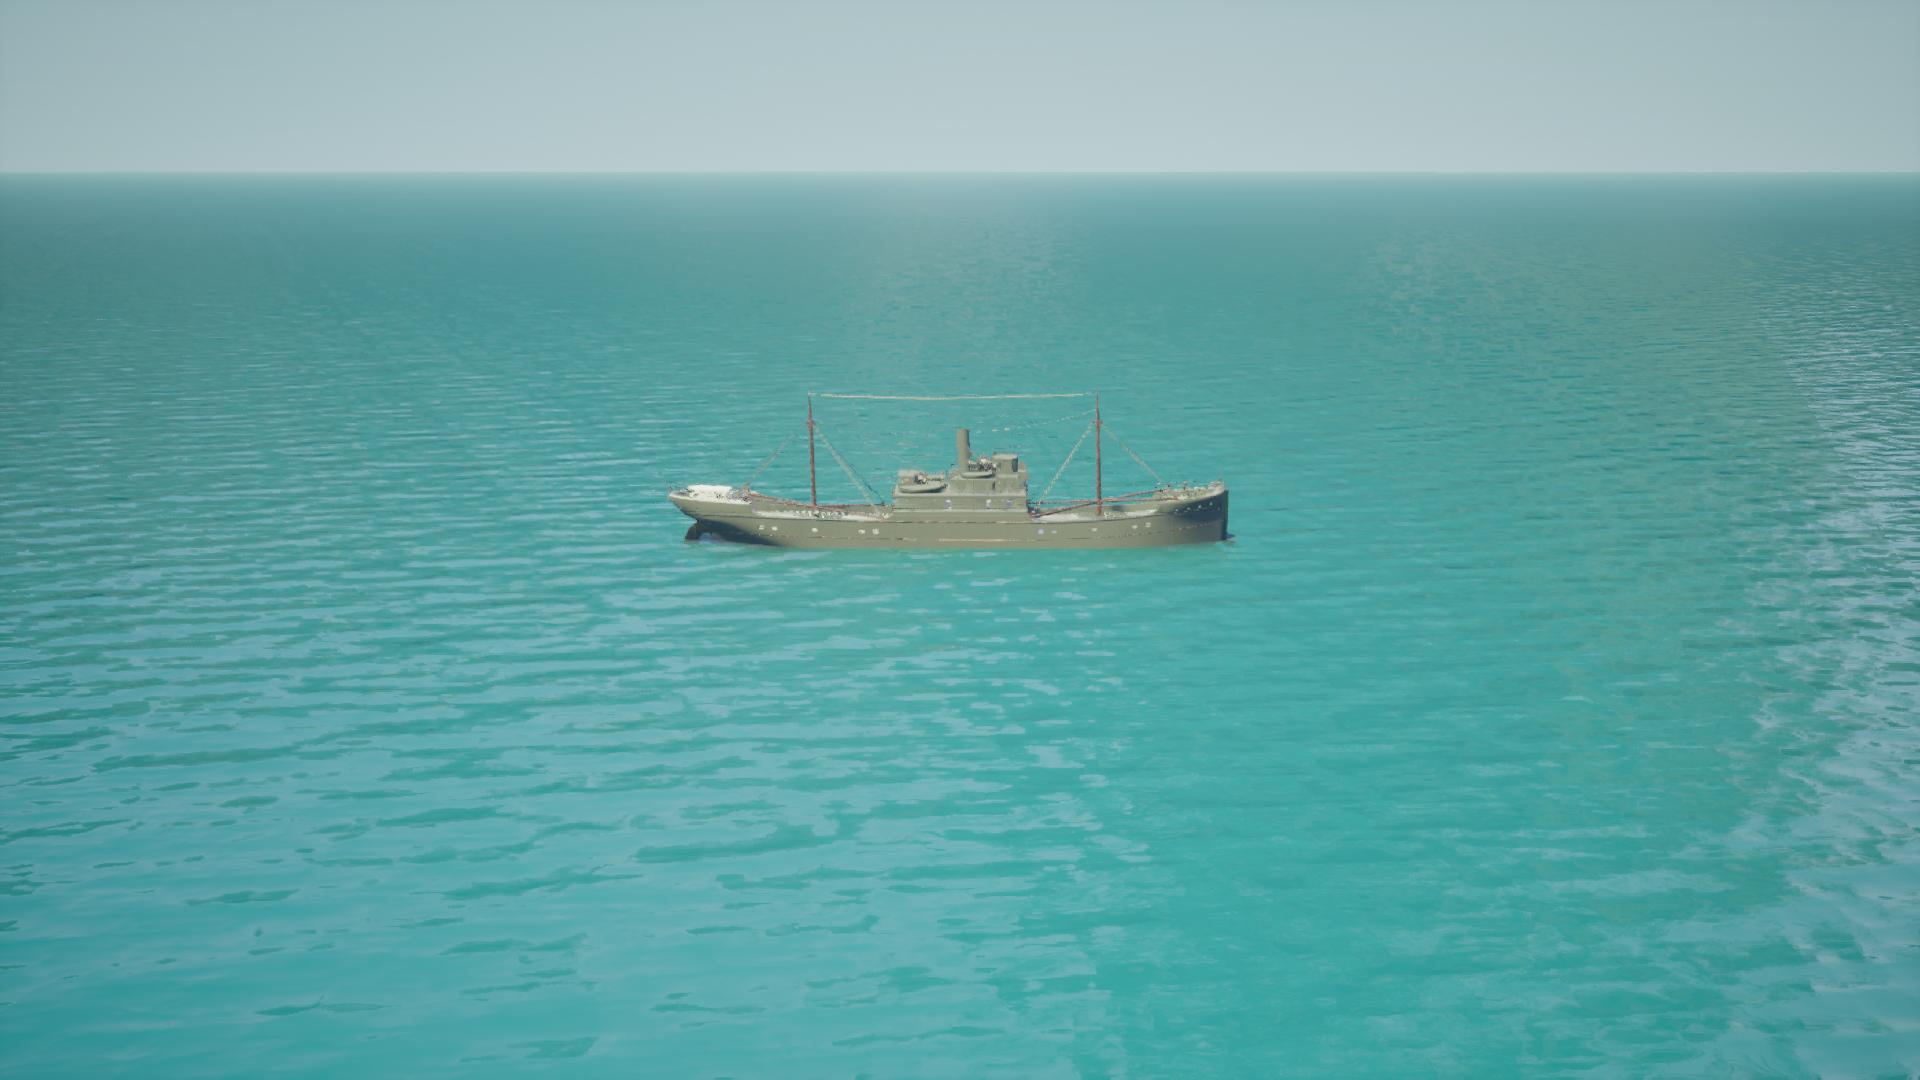Fishing Boat: (671, 394, 1237, 554)
